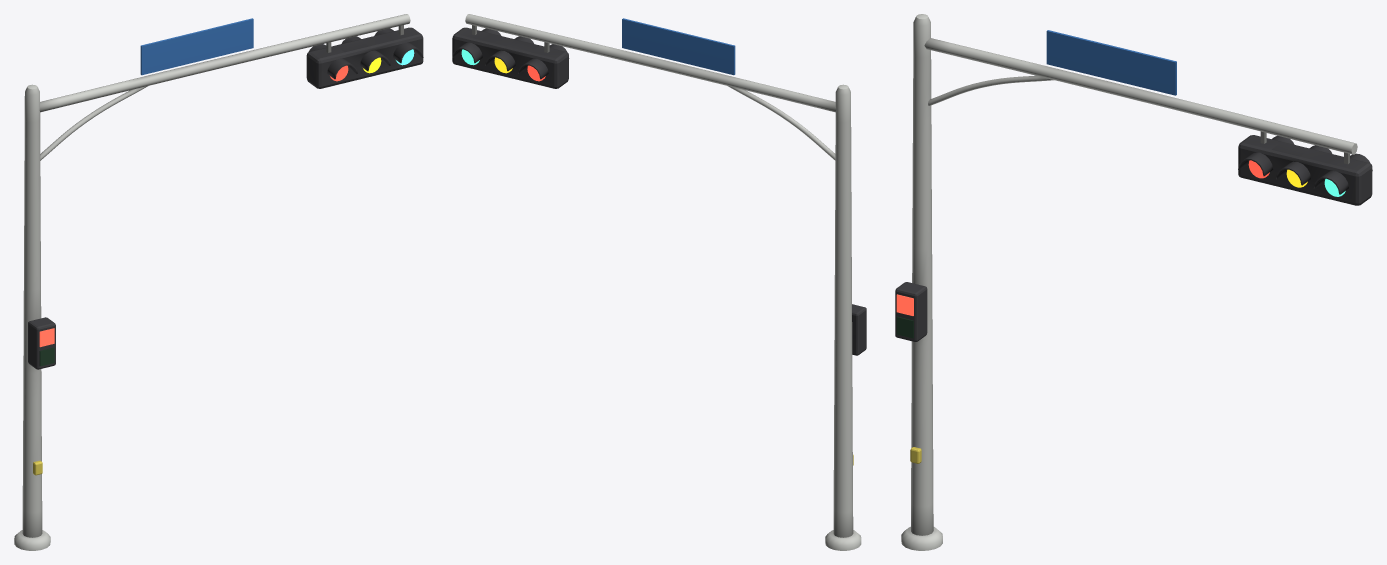
Rendered from st_signal.glb.
3 renders of one model, left to right at view 1: azimuth 30°, elevation 25°; view 2: azimuth 150°, elevation 25°; view 3: azimuth 330°, elevation 25°, orthographic. The views are drawn at different scales.
Visible parts, largest first — view 1: body, sign_street; view 2: body, sign_street2; view 3: body, sign_street.
Boxes of the visible parts, box(x1,y1,x2,y2) form: body: box(14, 14, 423, 550); sign_street: box(144, 22, 250, 72); body: box(452, 14, 866, 550); sign_street2: box(624, 22, 731, 72); body: box(895, 14, 1372, 550); sign_street: box(1049, 34, 1172, 92).
Bounding box in the file's own units: 6.1 × 6.83 × 0.765.
